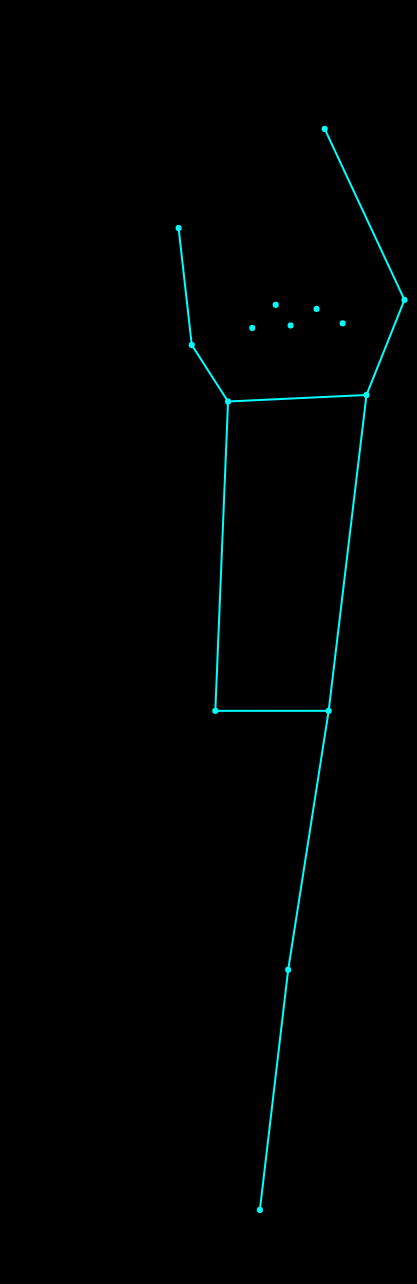tree: (105, 114, 410, 1218)
